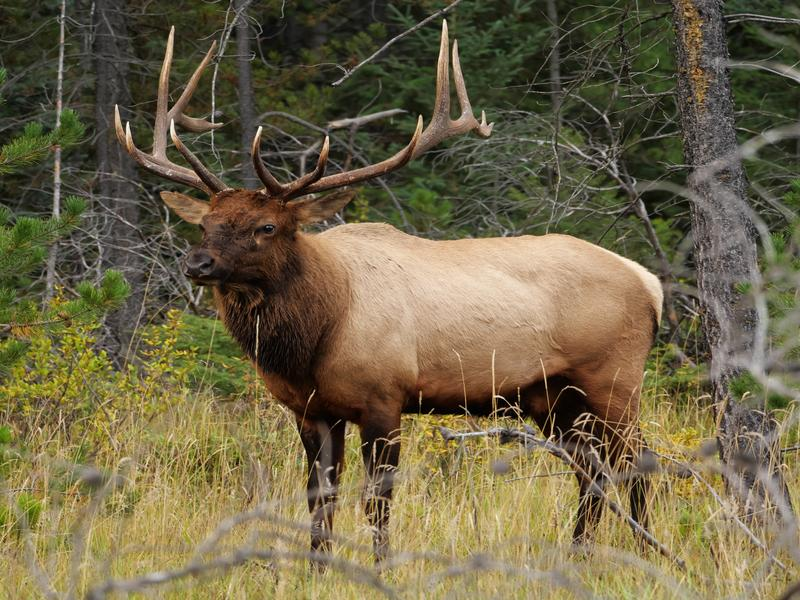elk: (102, 33, 672, 568)
